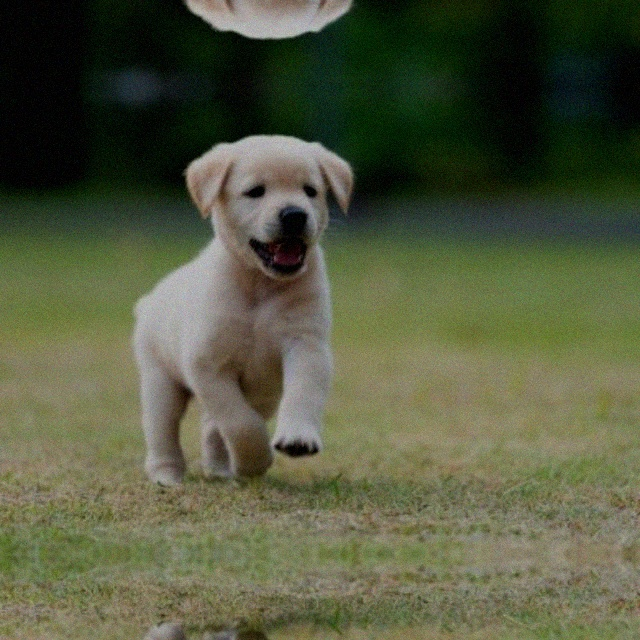dog: (115, 118, 363, 502), (115, 0, 363, 54), (115, 605, 363, 640)
